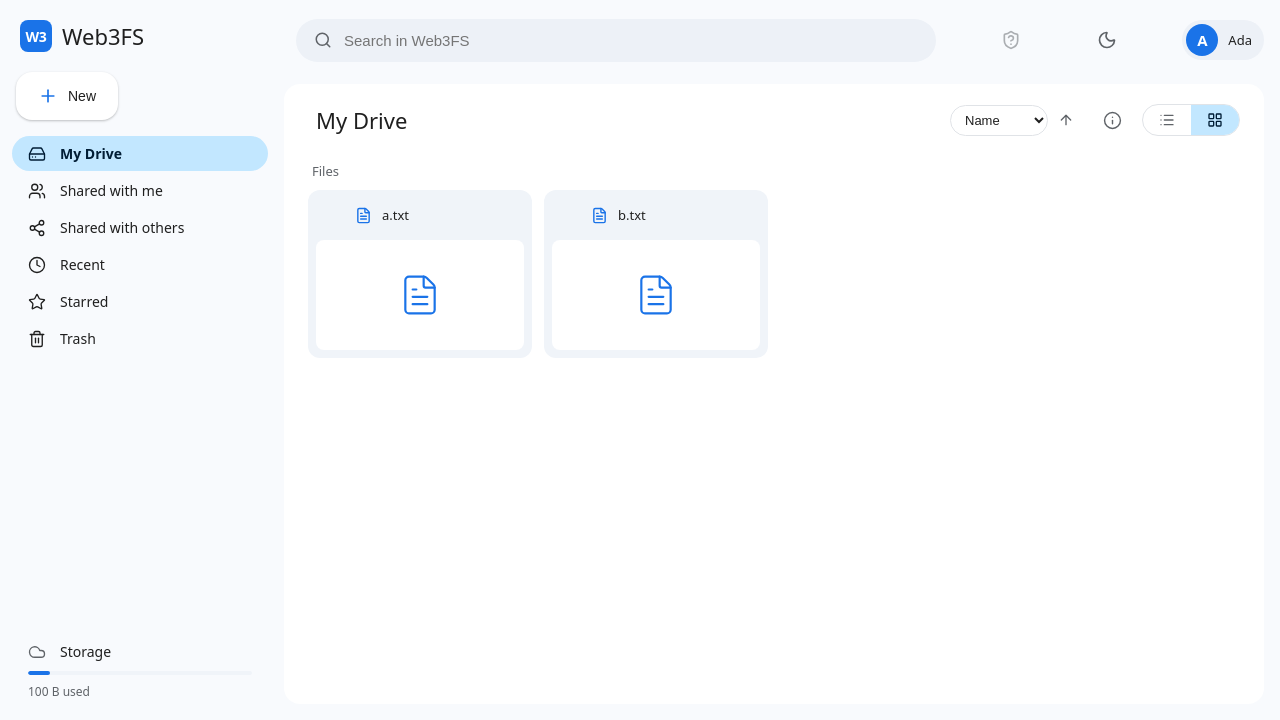
Test: multi-select toolbar › bulk share opens the share modal for the selection
Click the element showing "a.txt": {"x": 420, "y": 274} [308, 190, 532, 358]
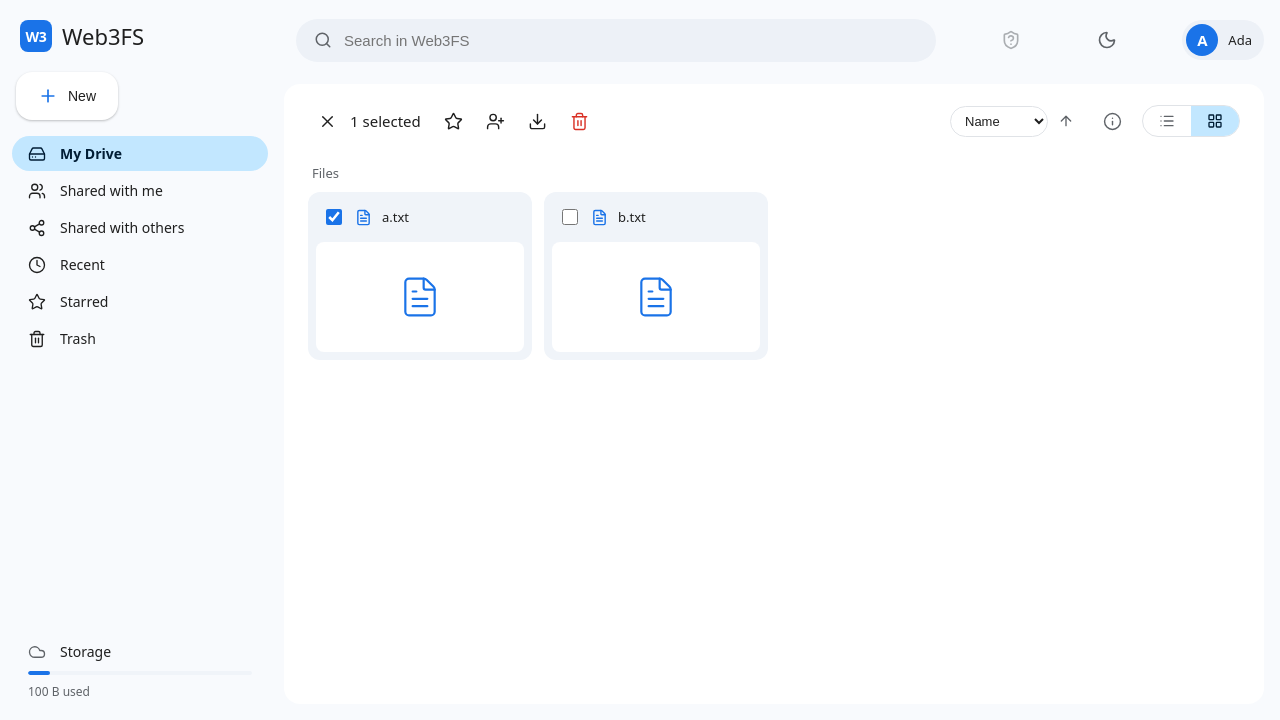
Click the element showing "b.txt": {"x": 656, "y": 276} [544, 192, 768, 360]
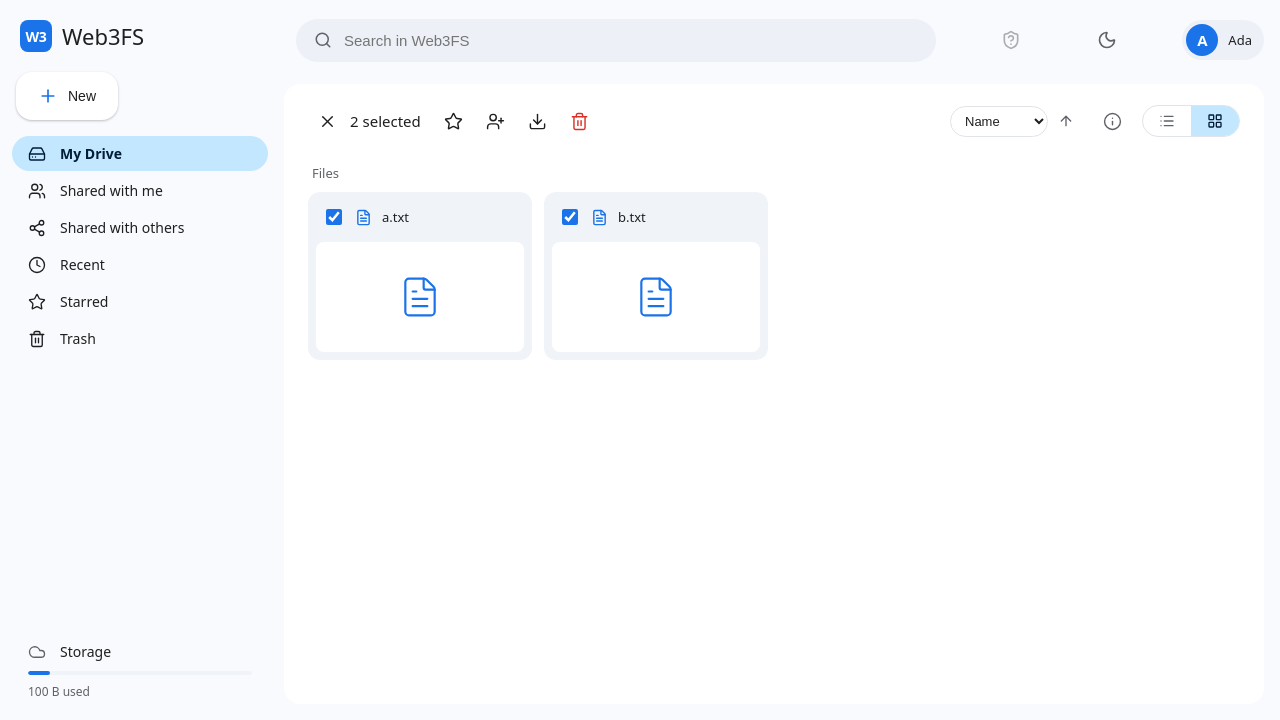
Click the button titled "Share": {"x": 496, "y": 121} [477, 102, 515, 140]
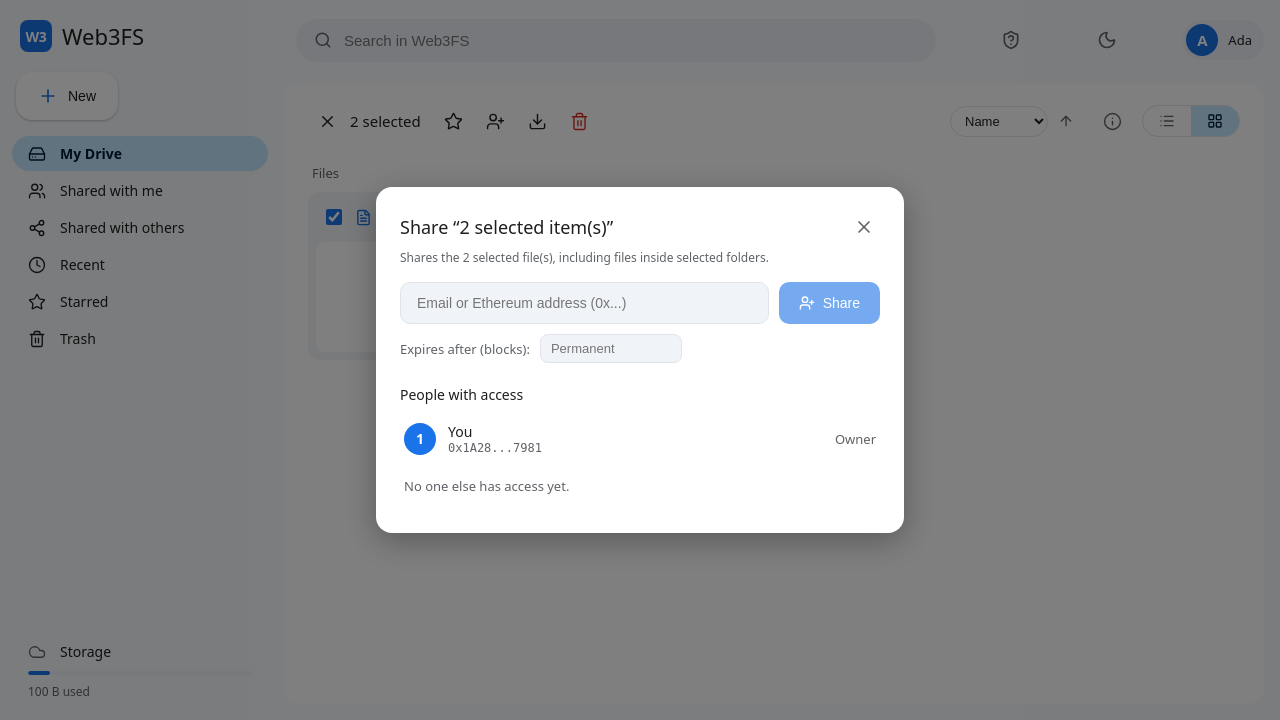
Check: the text "People with access" is shown, box [400, 385, 523, 404]
Check: the field with placeholder "Email or Ethereum address (0x...)" is shown, box [400, 282, 769, 324]
